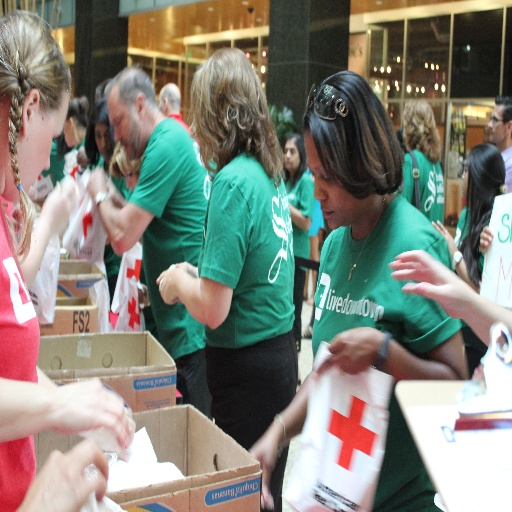hand: (16, 437, 108, 511), (388, 249, 477, 317), (57, 376, 131, 449), (316, 325, 373, 375), (40, 175, 76, 234), (247, 433, 274, 511), (430, 216, 459, 258), (156, 261, 184, 299), (86, 165, 106, 199), (479, 225, 494, 252), (76, 145, 91, 169), (176, 261, 199, 276), (105, 176, 116, 197)
